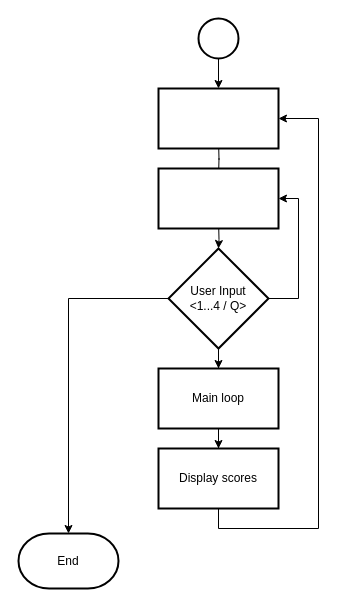
Image size: 344x606. Some labels were removed from this diagram. The centre of each missing label's shape, as x and y in pixels:
"Display title screen" goes at pixel 218 198.
"Initialise Game" goes at pixel 218 118.
